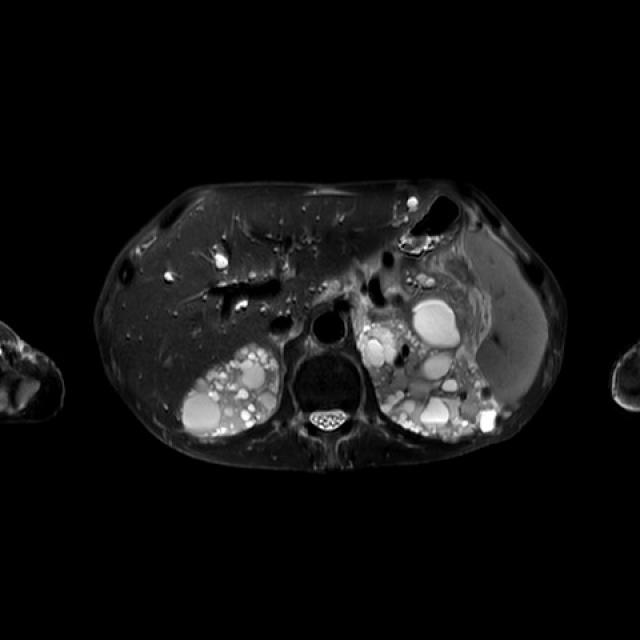sag: (182, 343, 282, 441)
sol: (358, 297, 499, 441)
